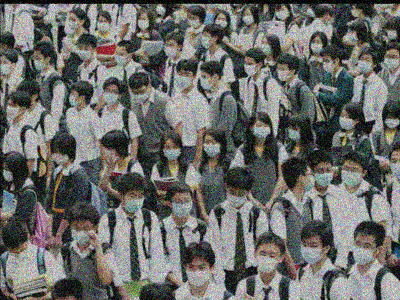with_mask: (184, 261, 211, 287), (351, 239, 376, 265), (300, 239, 323, 265), (256, 248, 278, 273), (69, 223, 94, 245), (122, 190, 145, 213), (313, 164, 335, 188), (171, 197, 193, 218), (225, 187, 247, 208), (341, 164, 361, 186), (201, 139, 222, 157), (161, 143, 181, 161), (50, 147, 69, 165), (7, 247, 29, 262), (338, 112, 356, 130), (253, 121, 271, 139), (5, 101, 22, 119), (102, 86, 118, 105), (357, 55, 373, 74), (76, 42, 92, 61), (176, 70, 192, 88), (303, 169, 315, 192), (286, 124, 302, 141), (384, 53, 399, 70), (130, 88, 148, 102), (199, 72, 213, 90), (243, 59, 257, 77), (163, 40, 177, 58), (114, 49, 128, 67), (1, 165, 14, 184), (104, 147, 119, 163), (32, 53, 46, 70), (136, 14, 149, 31), (389, 156, 399, 178), (96, 17, 110, 32), (275, 6, 290, 20), (383, 115, 399, 128), (276, 65, 289, 81), (321, 57, 334, 73), (310, 38, 323, 54), (260, 39, 272, 56), (68, 90, 79, 108), (200, 31, 211, 48), (187, 14, 200, 28), (241, 11, 254, 25), (0, 58, 10, 76), (386, 26, 398, 40), (67, 15, 79, 29), (214, 16, 227, 28), (350, 4, 360, 18), (348, 28, 357, 42), (155, 4, 165, 16), (324, 14, 334, 25)
